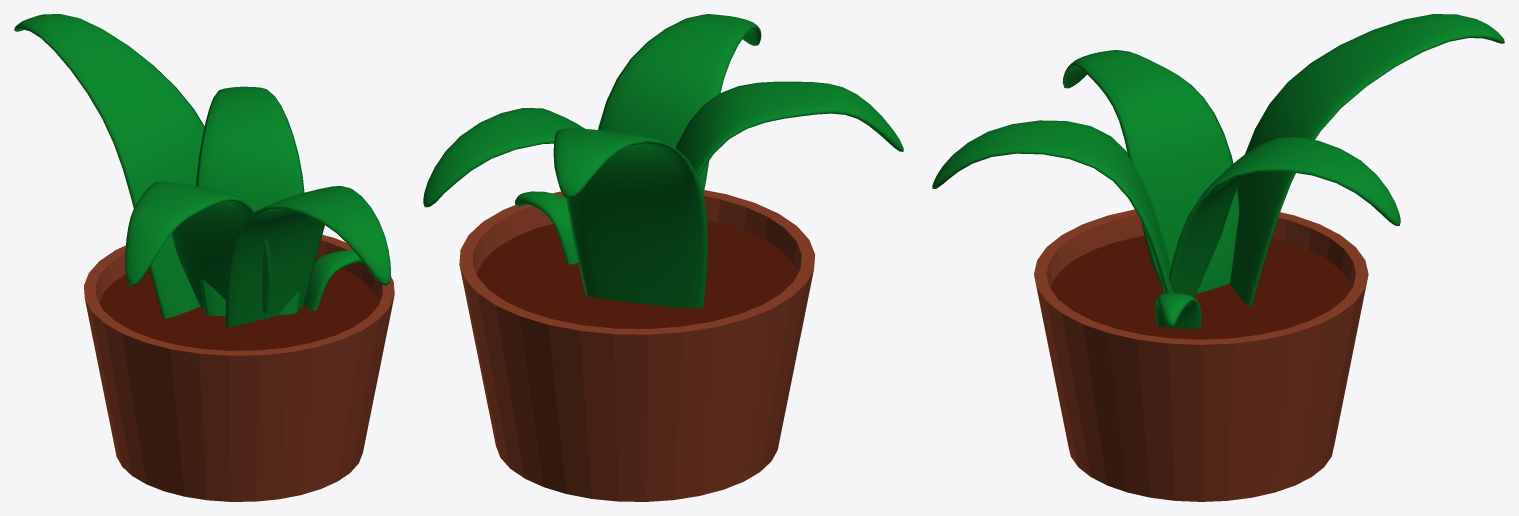
The model's file is Plant.fbx.
3 views of the same model, side by side, from view 1: azimuth 30°, elevation 25°; view 2: azimuth 150°, elevation 25°; view 3: azimuth 270°, elevation 25° (orthographic). The views are drawn at different scales.
Parts seen in each view (by area): view 1: Plane.007; view 2: Plane.007; view 3: Plane.007.
Boxes of the visible parts, x1=… form: Plane.007: x1=14, y1=14, x2=394, y2=501; Plane.007: x1=423, y1=14, x2=903, y2=501; Plane.007: x1=932, y1=14, x2=1504, y2=501.
Bounding box in the file's own units: 240 × 269 × 360.
